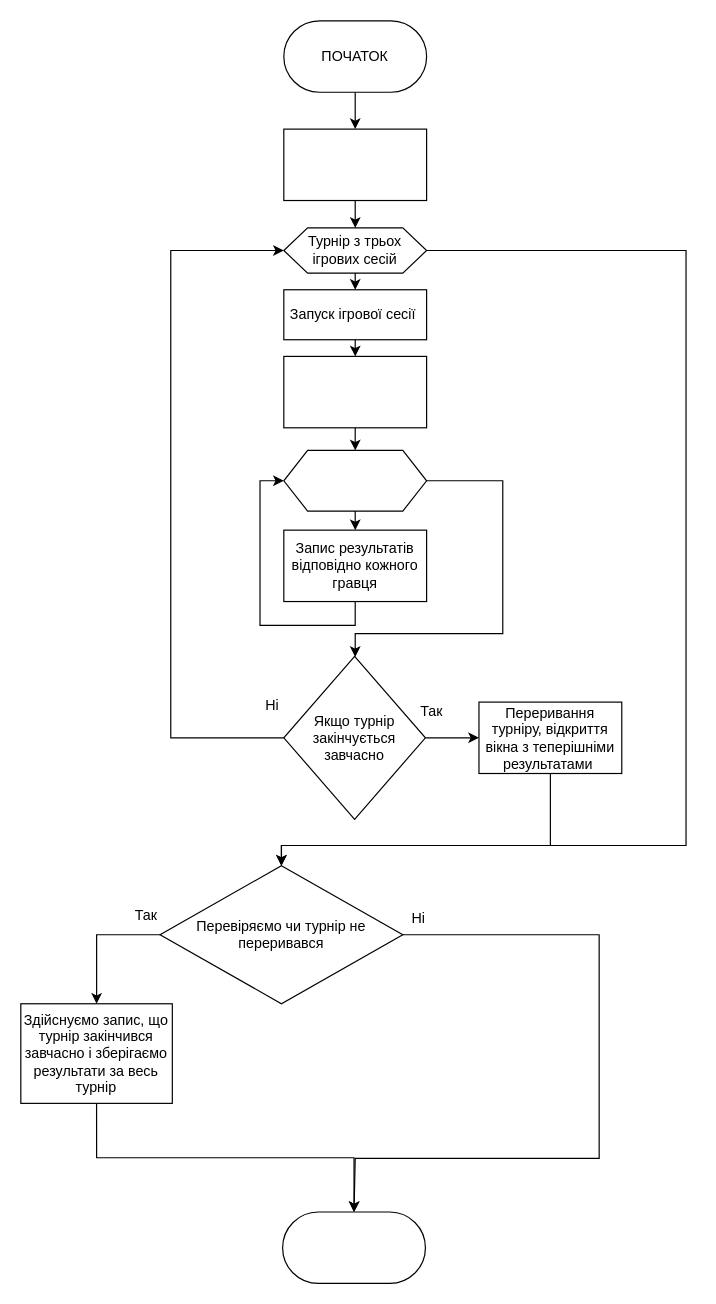
Some shapes in this 716 by 1304 pixel diagram are drawn without their labels. Each missing label, with the centre of its shape:
Записуємо результати: pixel 355 480
КІНЕЦЬ: pixel 353 1247
Отримуємо результати ігрової сесії: pixel 355 391
Передаємо значення кількісті гравців: pixel 355 164
